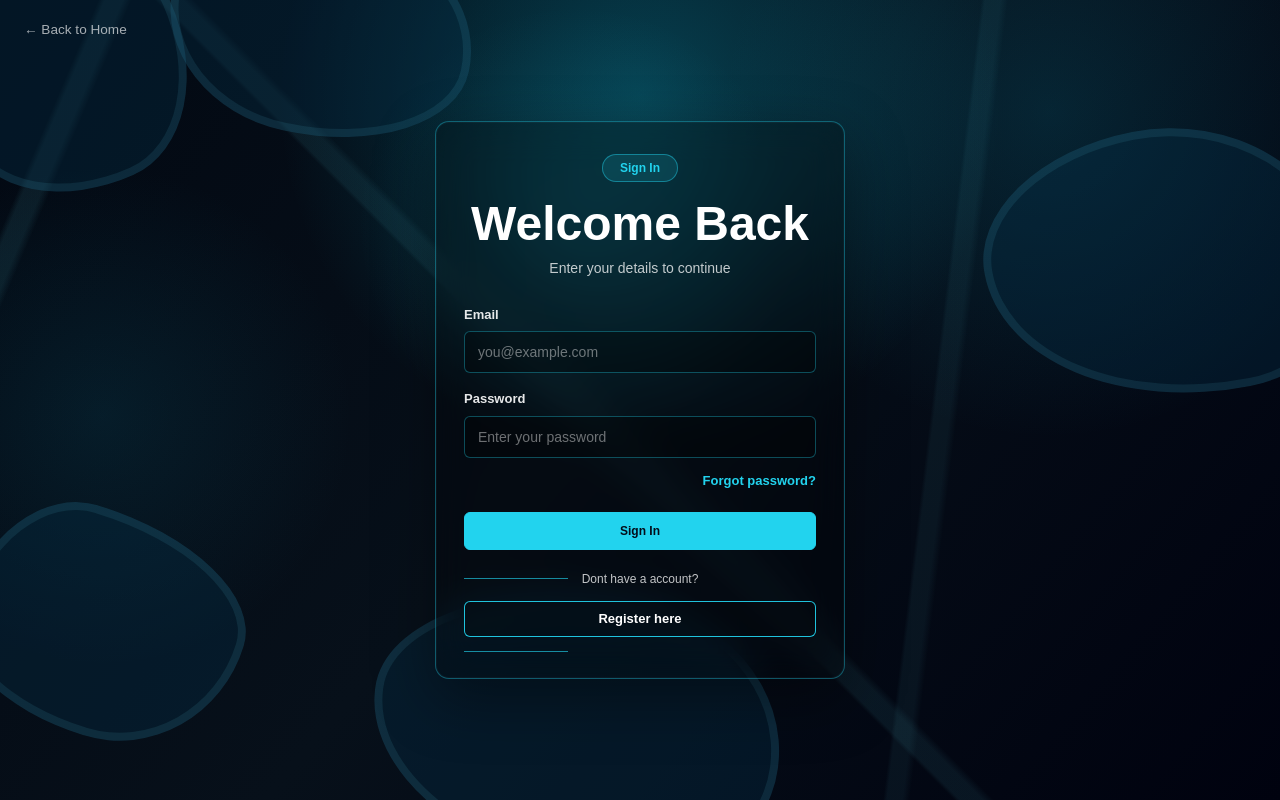
it: LoginPage › submits normalized credentials and redirects on success
Type " Ada@Example.com " into the field with placeholder "you@example.com" at (640, 352), box [464, 331, 816, 373]
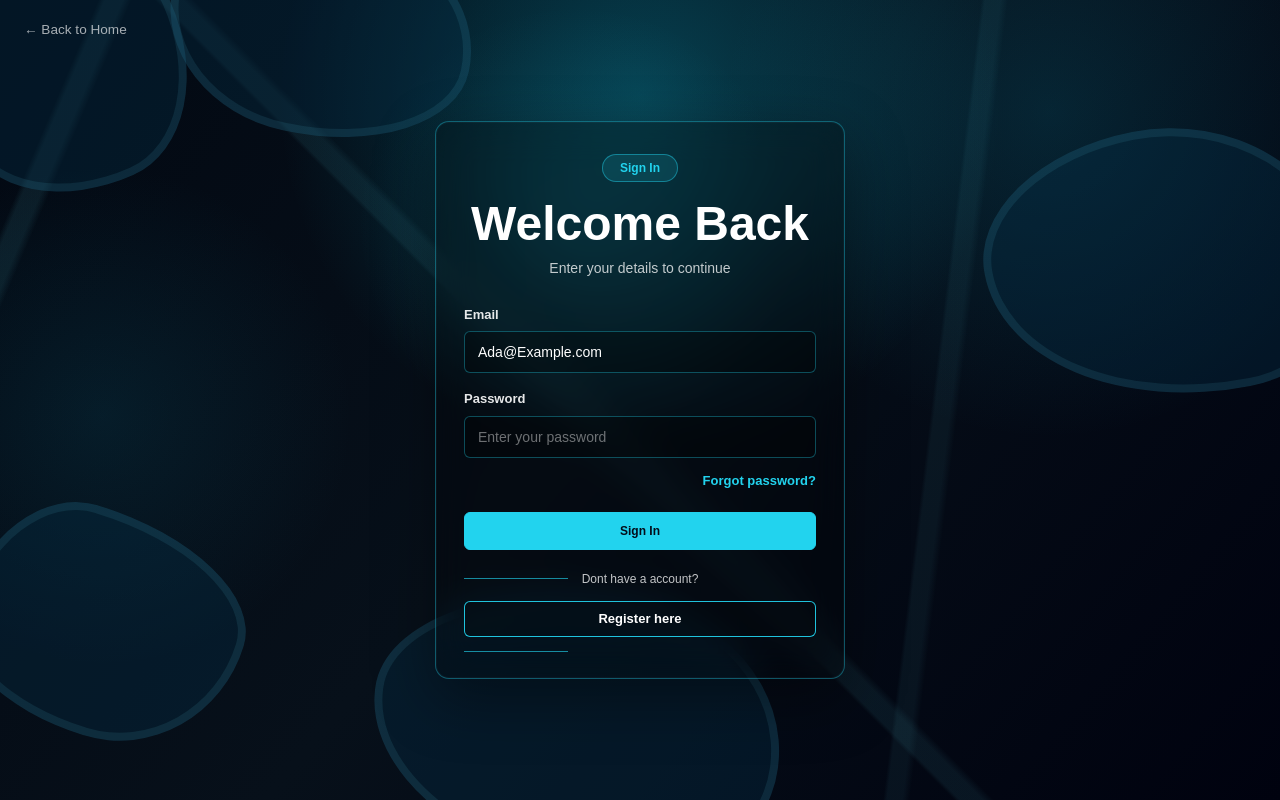
Type "abc123" into the password field with placeholder "Enter your password" at (640, 437), box [464, 416, 816, 458]
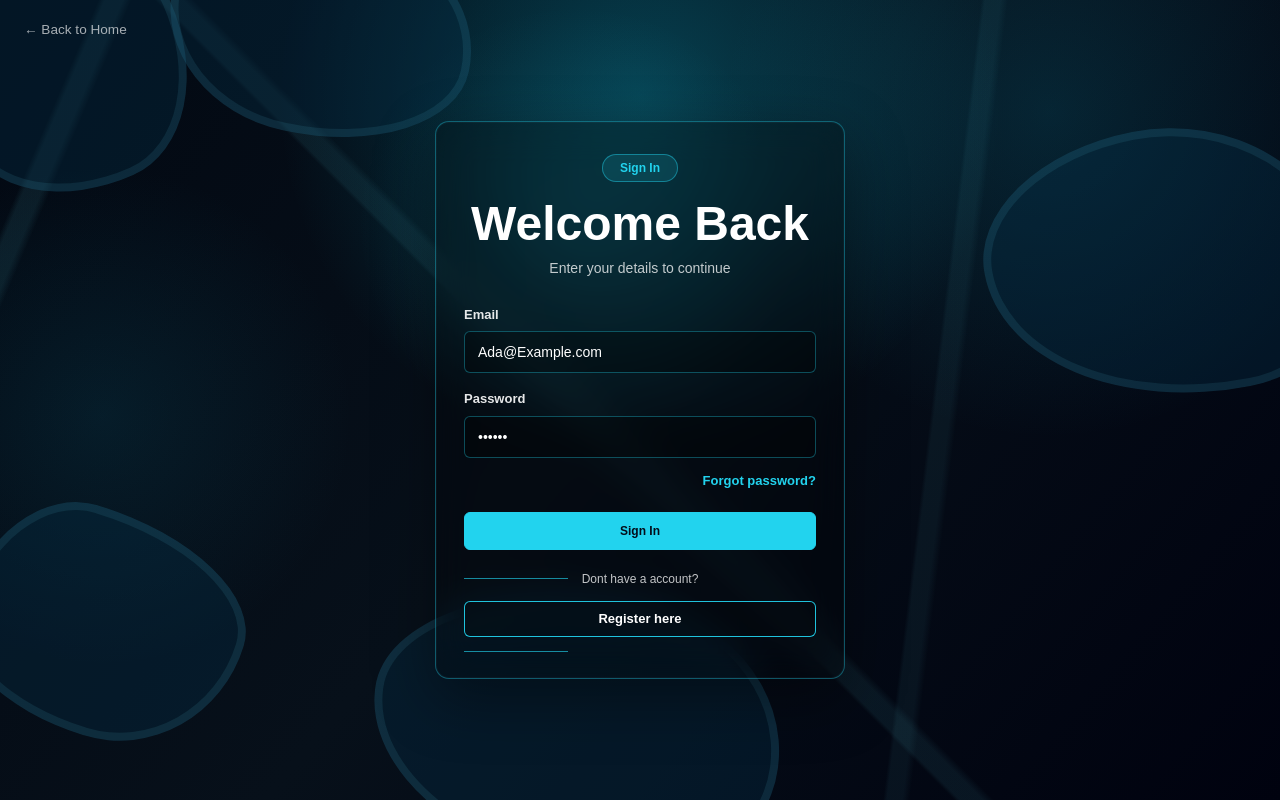
Submit the form "Email Password Forgot password? Sign In", box [464, 305, 816, 550]
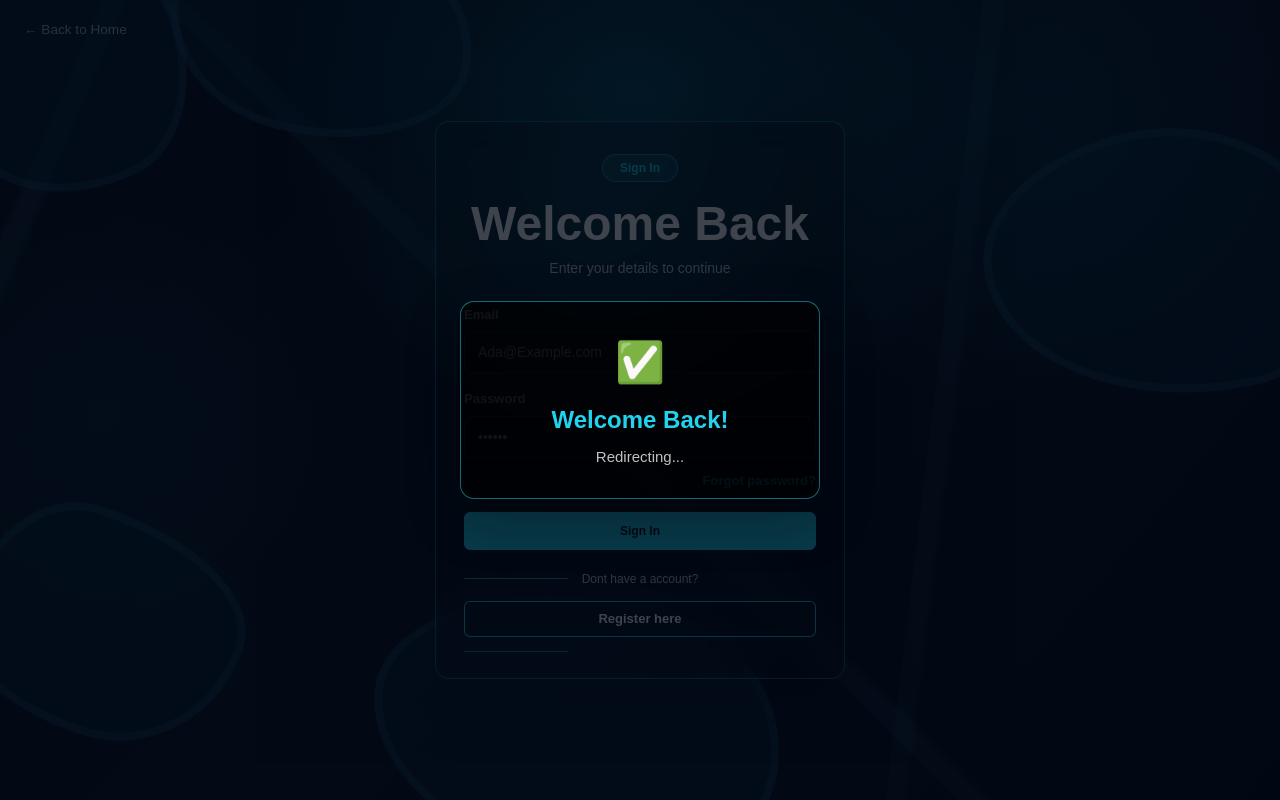
Now the heading "Welcome Back!" is shown, box [552, 406, 728, 433]
